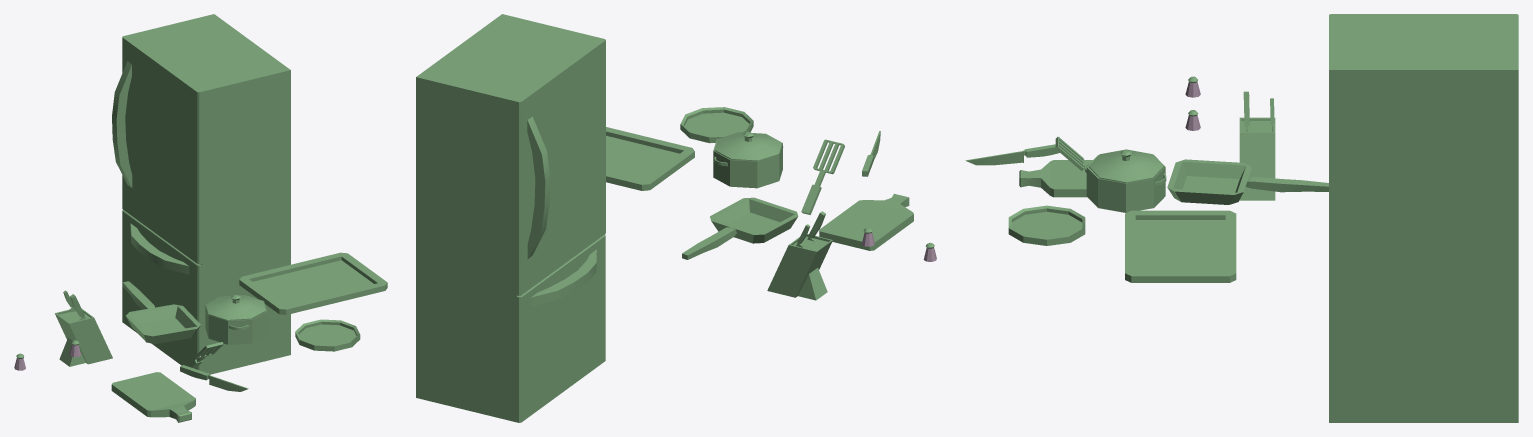
The model's file is sup.fbx.
The picture shows the model from 3 angles, left to right: view 1: azimuth 30°, elevation 25°; view 2: azimuth 150°, elevation 25°; view 3: azimuth 270°, elevation 25°; orthographic projection. The views are drawn at different scales.
Visible parts, largest first — view 1: Fridge1, Tray, Pot1, Cutting_board, Pan1, Knife_holder1, Plate, Knife1; view 2: Fridge1, Tray, Pot1, Pan1, Cutting_board, Knife_holder1, Plate, Spatula1; view 3: Fridge1, Tray, Pot1, Pan1, Knife_holder1, Plate, Cutting_board, Knife1.
Boxes of the visible parts, x1=… form: Fridge1: x1=112, y1=14, x2=290, y2=374; Tray: x1=239, y1=252, x2=387, y2=314; Pot1: x1=205, y1=295, x2=267, y2=344; Cutting_board: x1=111, y1=372, x2=195, y2=422; Pan1: x1=122, y1=281, x2=200, y2=343; Knife_holder1: x1=55, y1=290, x2=112, y2=366; Plate: x1=295, y1=319, x2=360, y2=351; Knife1: x1=180, y1=365, x2=248, y2=391; Fridge1: x1=416, y1=14, x2=605, y2=422; Tray: x1=606, y1=127, x2=694, y2=190; Pot1: x1=713, y1=132, x2=783, y2=188; Pan1: x1=682, y1=197, x2=798, y2=259; Cutting_board: x1=819, y1=193, x2=913, y2=250; Knife_holder1: x1=767, y1=211, x2=832, y2=300; Plate: x1=680, y1=107, x2=753, y2=143; Spatula1: x1=801, y1=139, x2=844, y2=214; Fridge1: x1=1329, y1=14, x2=1518, y2=422; Tray: x1=1125, y1=210, x2=1236, y2=282; Pot1: x1=1085, y1=149, x2=1166, y2=212; Pan1: x1=1167, y1=159, x2=1328, y2=204; Knife_holder1: x1=1239, y1=91, x2=1275, y2=200; Plate: x1=1008, y1=205, x2=1085, y2=245; Cutting_board: x1=1019, y1=160, x2=1092, y2=197; Knife1: x1=965, y1=144, x2=1059, y2=165.
Bounding box in the file's own units: 2.62 × 2.05 × 2.92.
